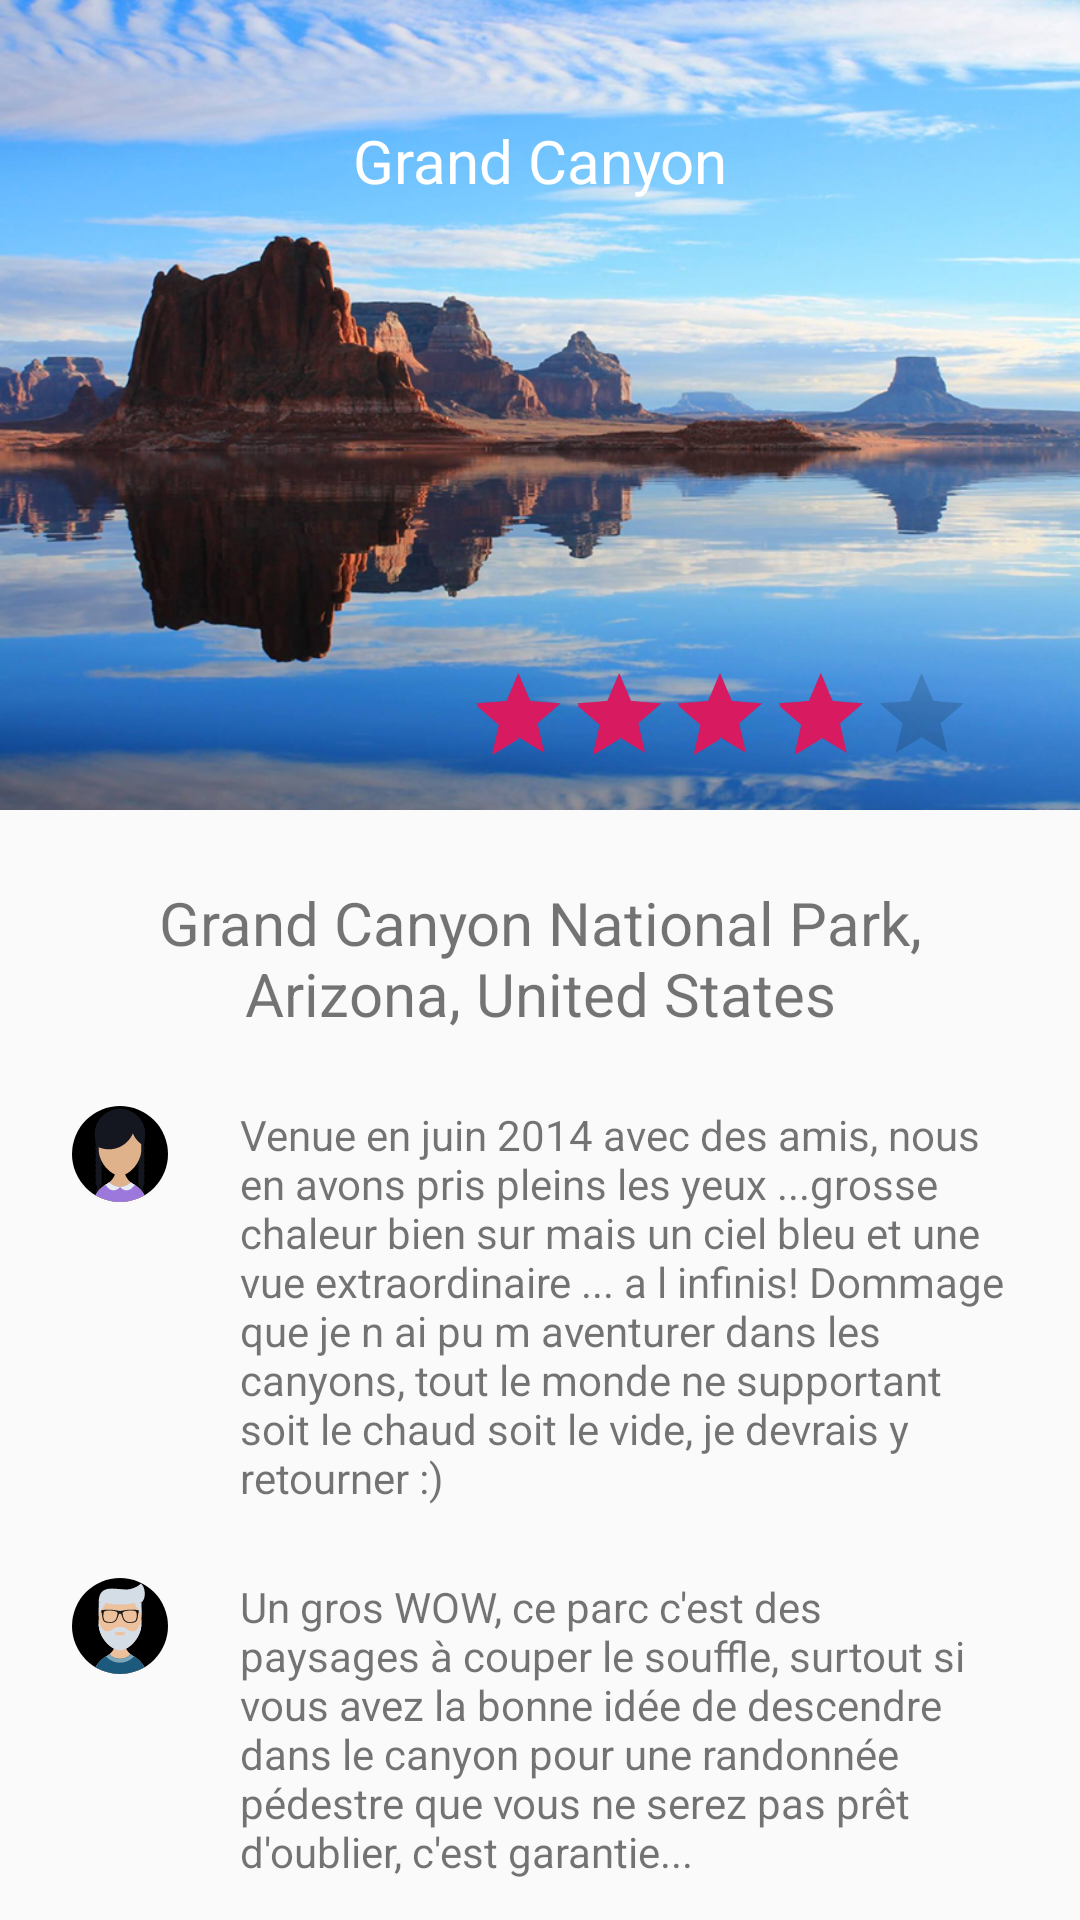

Screen size 1080w x 1920h. Icon name, then its center in pixels as [x,y]:
girl: [120,1154]
man: [120,1626]
